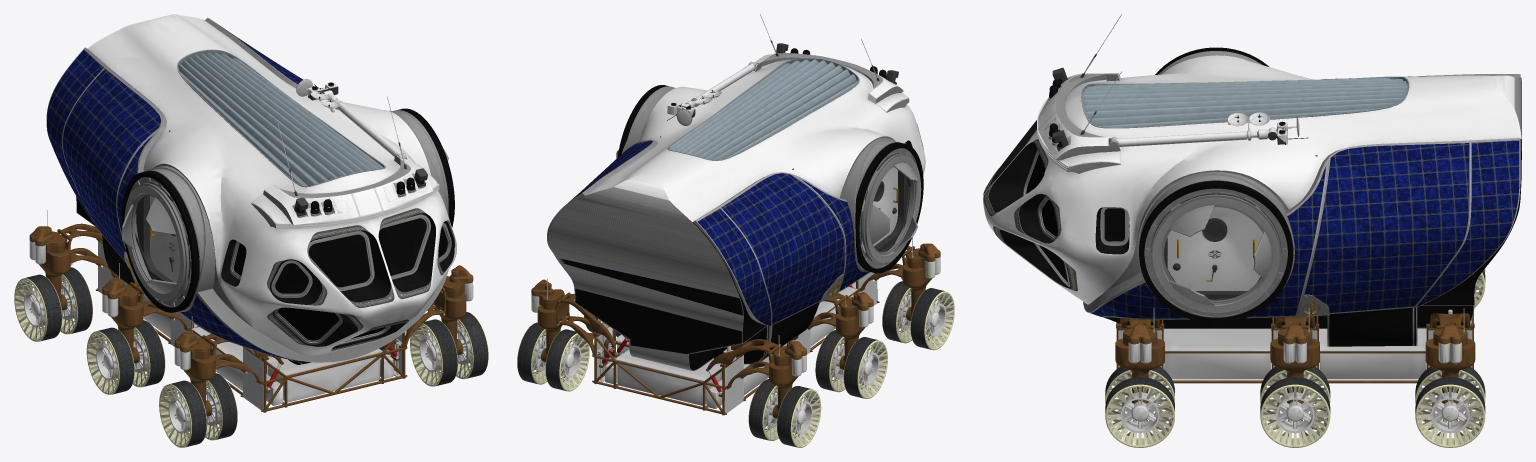
Rendered from space-exploration-vehicle.glb.
3 renders of one model, left to right at view 1: azimuth 30°, elevation 25°; view 2: azimuth 150°, elevation 25°; view 3: azimuth 270°, elevation 25°, orthographic. The views are drawn at different scales.
Parts seen in each view (by area): view 1: MMSEV; view 2: MMSEV; view 3: MMSEV.
Part boxes in pixels (x1,y1,x2,y2): MMSEV: (14, 14, 488, 447); MMSEV: (517, 14, 954, 447); MMSEV: (983, 14, 1521, 447).
Size of the model in its own units: 4.04 by 3.97 by 5.91.
1 material, 1 textured.
